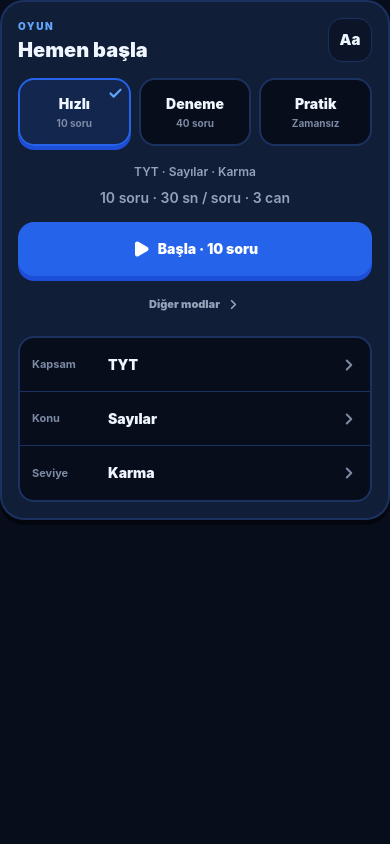
Test case: MobileLobbyFlow › offers reading settings before starting and shows the selected scope beside the start action
The image size is (390, 844).
Click the button with aria-label "Yazı boyutu ayarları" at (350, 40), box [328,18,372,62]
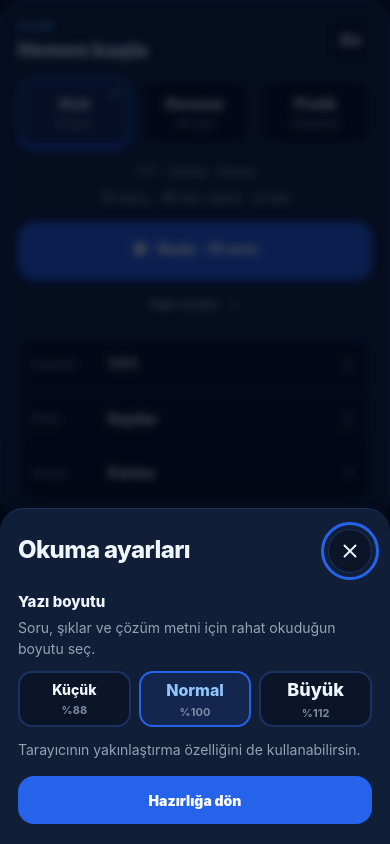
expect the dialog "Okuma ayarları" is shown: met, box [0,508,389,843]
expect the button "Hazırlığa dön" is shown: met, box [18,776,372,824]
